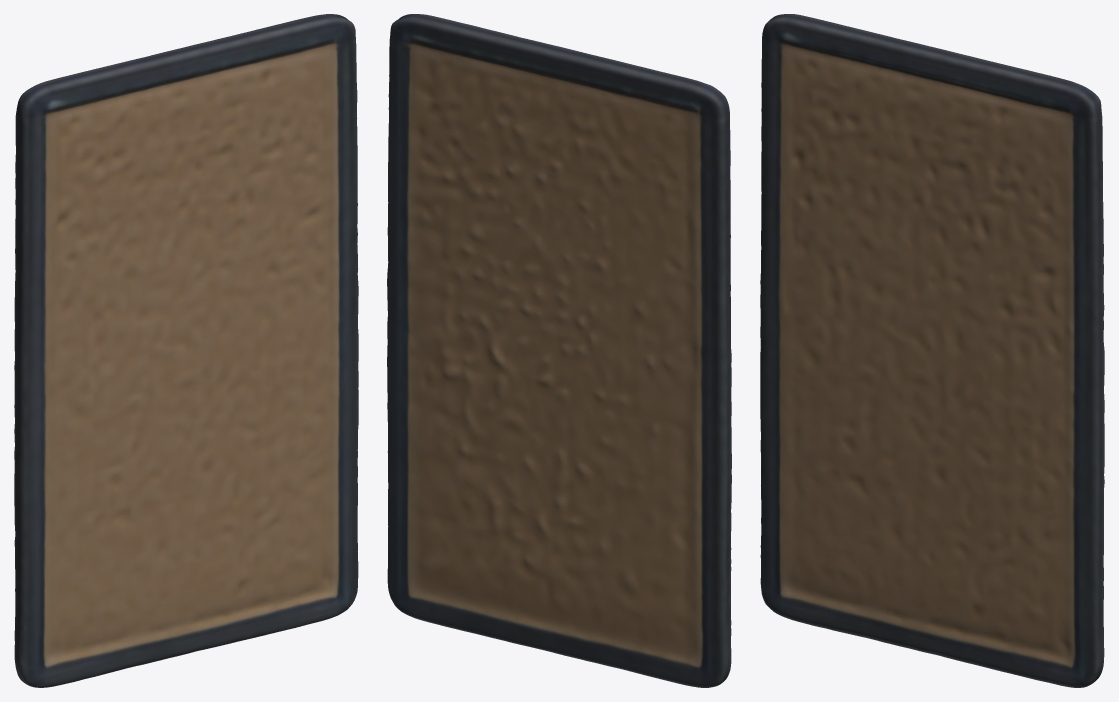
The model's file is a8ef4cf7b694_board__3d_asset_0_g.fbx.
3 renders of one model, left to right at view 1: azimuth 30°, elevation 25°; view 2: azimuth 150°, elevation 25°; view 3: azimuth 330°, elevation 25°, orthographic.
Visible parts, largest first — view 1: high_poly; view 2: high_poly; view 3: high_poly.
Boxes of the visible parts, bbox=[...] form: high_poly: bbox=[14, 14, 358, 687]; high_poly: bbox=[387, 14, 731, 687]; high_poly: bbox=[760, 14, 1104, 687].
Size of the model in its own units: 58.79 by 100 by 4.15.
